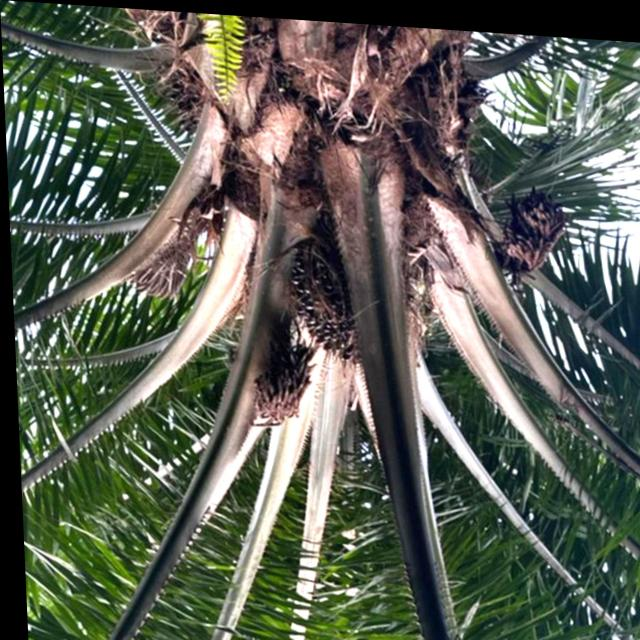almost: (282, 223, 374, 360)
